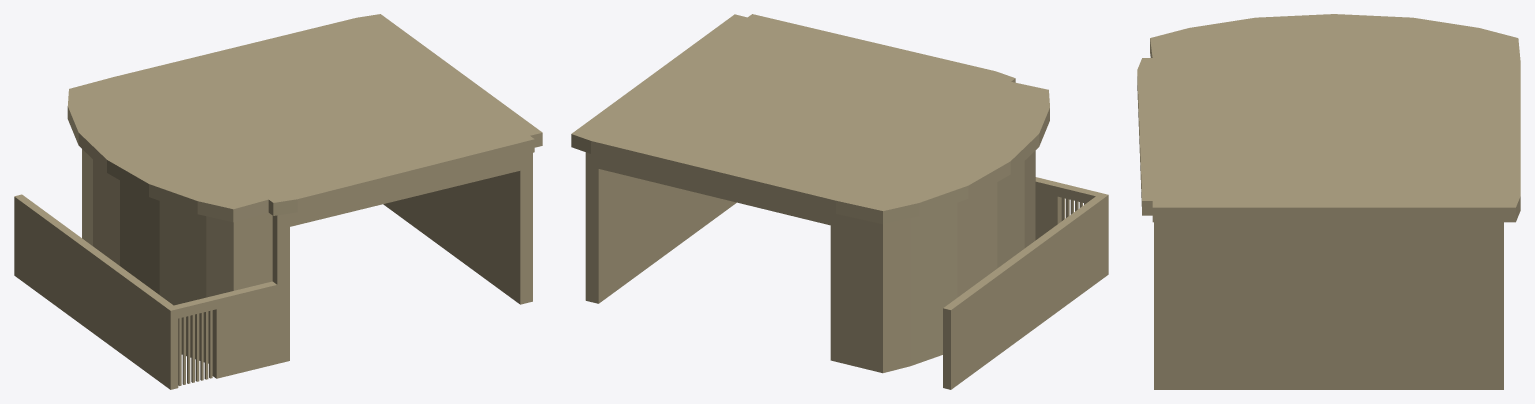
File: loja_36.fbx
3 views of the same model, side by side, from view 1: azimuth 30°, elevation 25°; view 2: azimuth 150°, elevation 25°; view 3: azimuth 270°, elevation 25° (orthographic). The views are drawn at different scales.
Visible parts, largest first — view 1: Cube; view 2: Cube; view 3: Cube.
Boxes of the visible parts, x1,y1,x2,y2 form: Cube: [14, 14, 542, 389]; Cube: [571, 14, 1108, 389]; Cube: [1137, 14, 1520, 389].
Bounding box in the file's own units: 5826 × 2504 × 4649.
